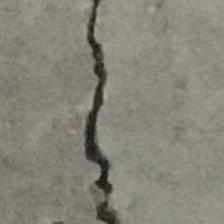Crack: (47, 0, 160, 224)
